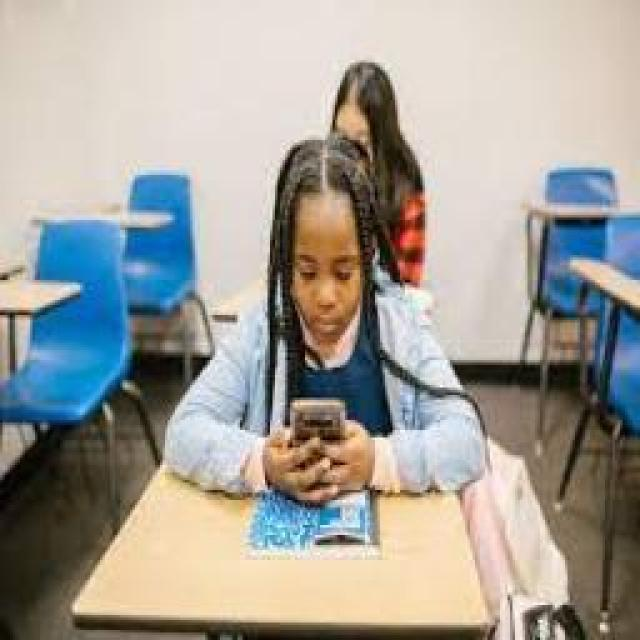phone: (162, 138, 488, 500)
